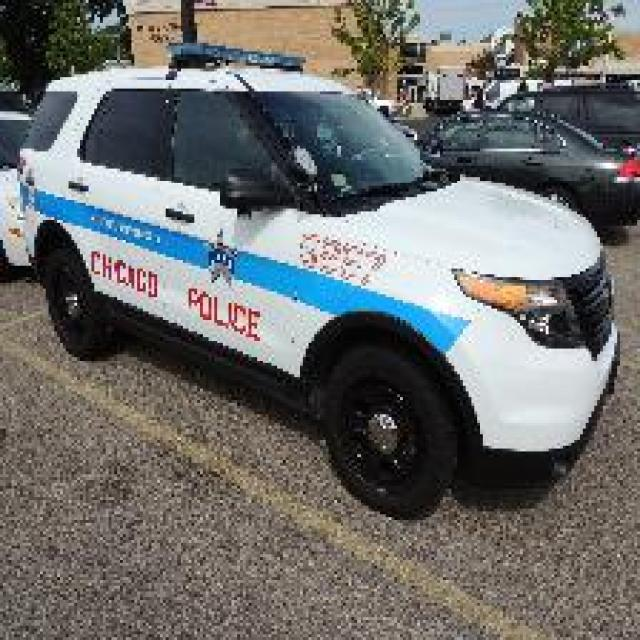Police-car: (11, 37, 620, 520)
